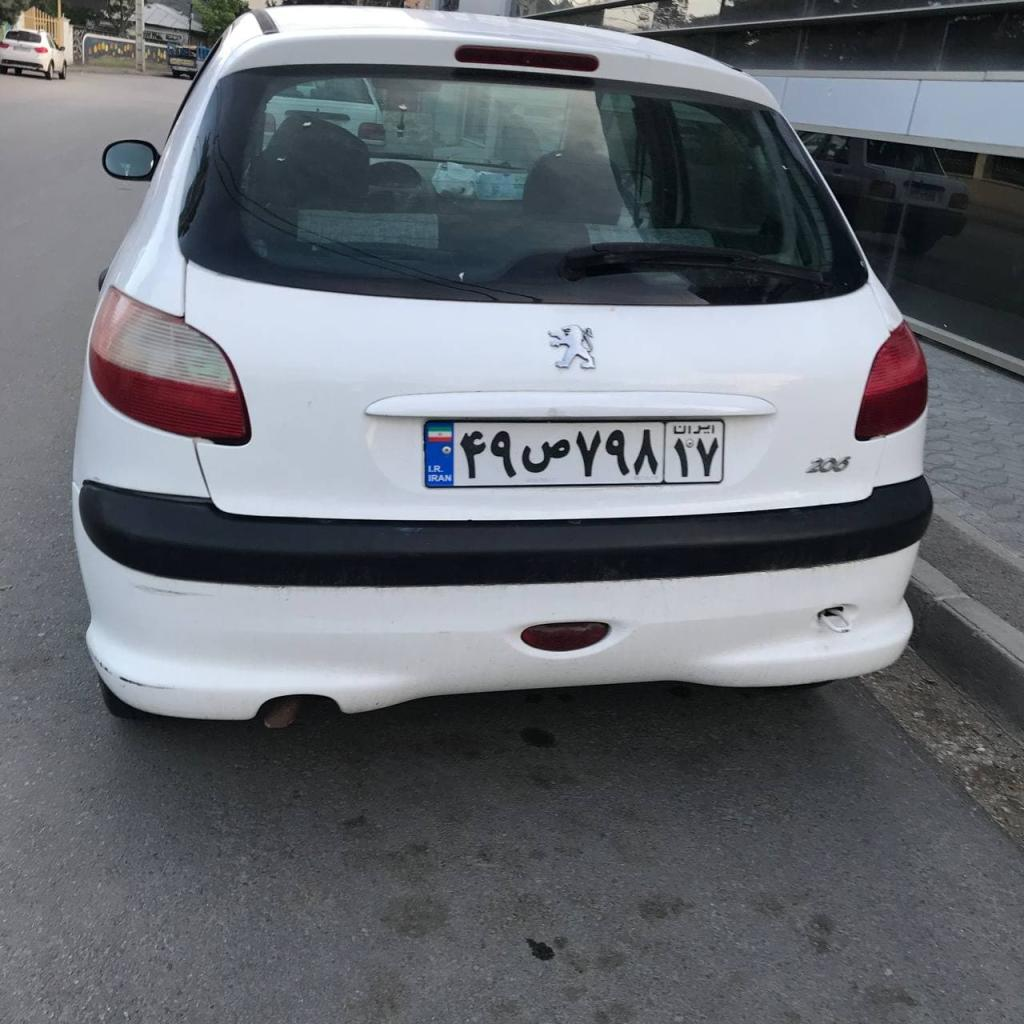Plates: (424, 420, 723, 486)
